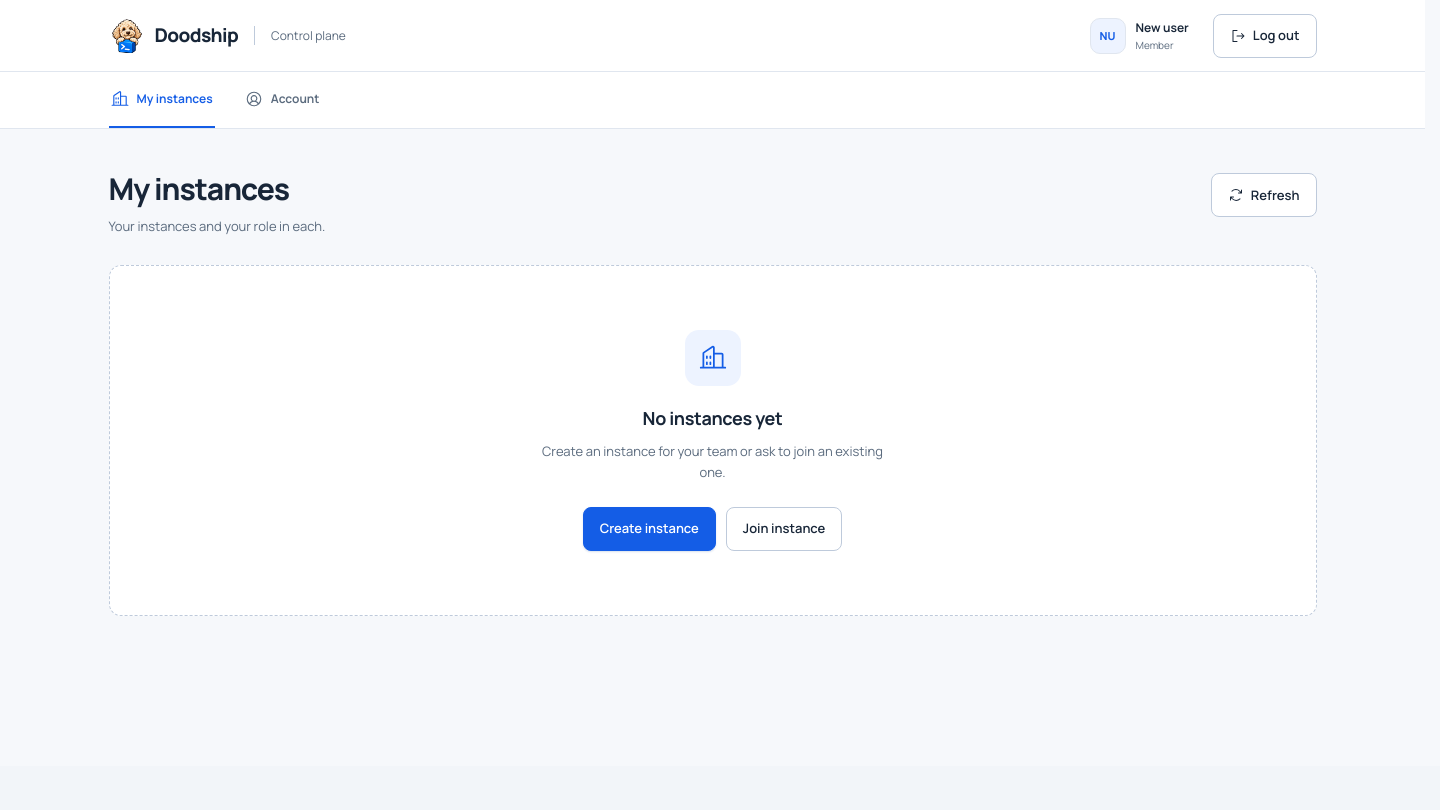
Test: shows a pending request without an instance link or membership
Click the button "Join instance": (784, 529) x1=726 y1=507 x2=842 y2=551
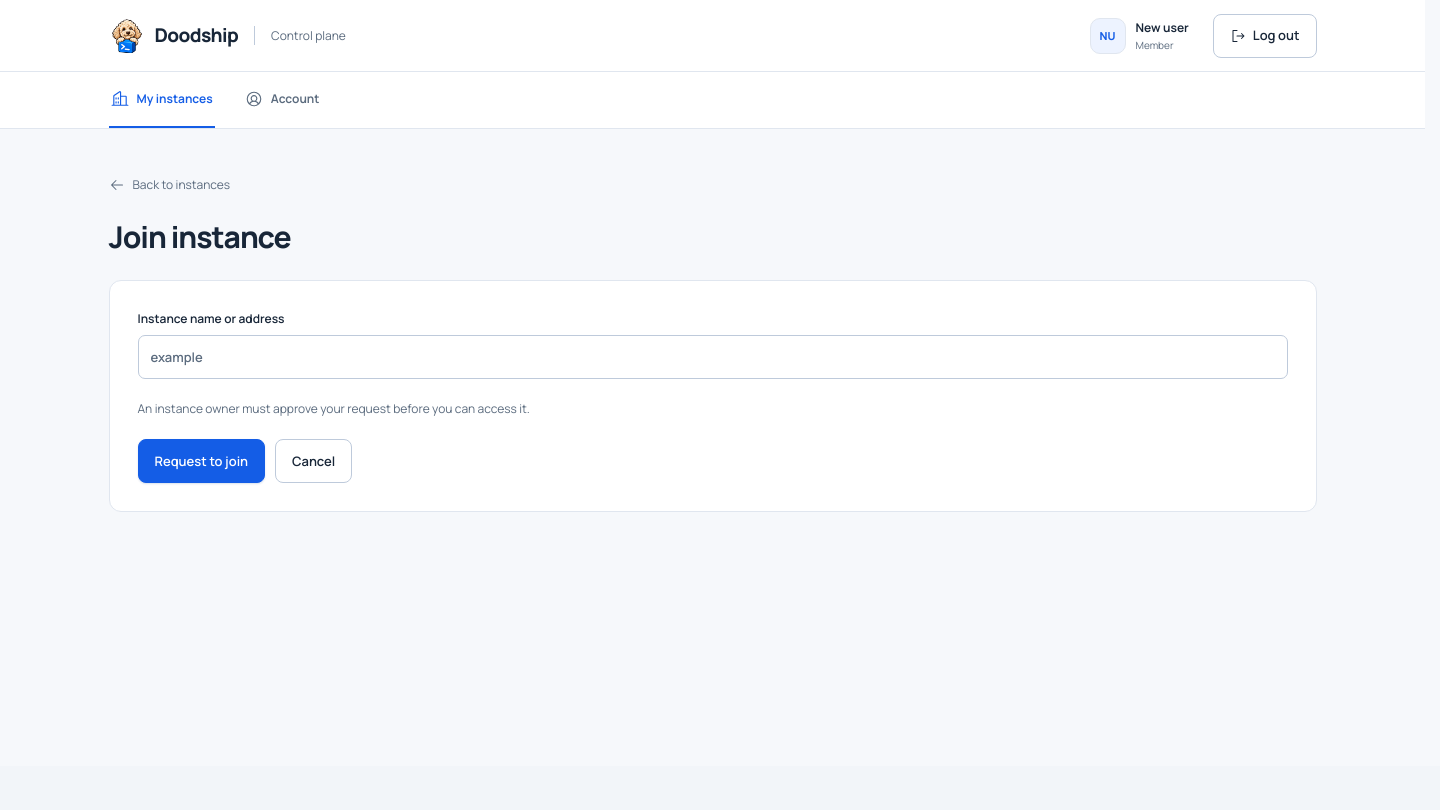
In the field labelled "Instance name or address": (712, 357) x1=138 y1=335 x2=1288 y2=379, type "https://my-team.doodship.example.test"
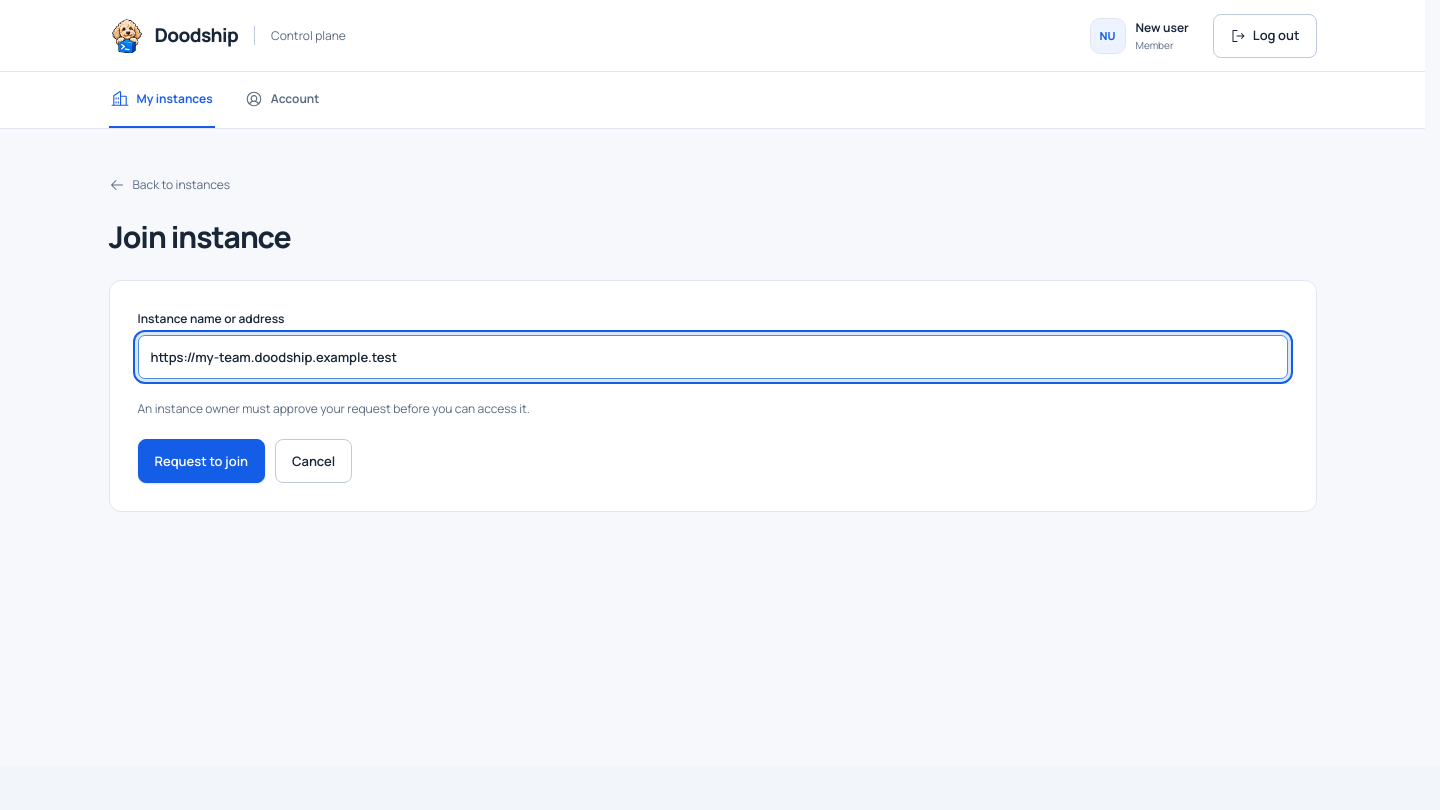
Click the button "Request to join": (201, 461) x1=138 y1=439 x2=265 y2=483
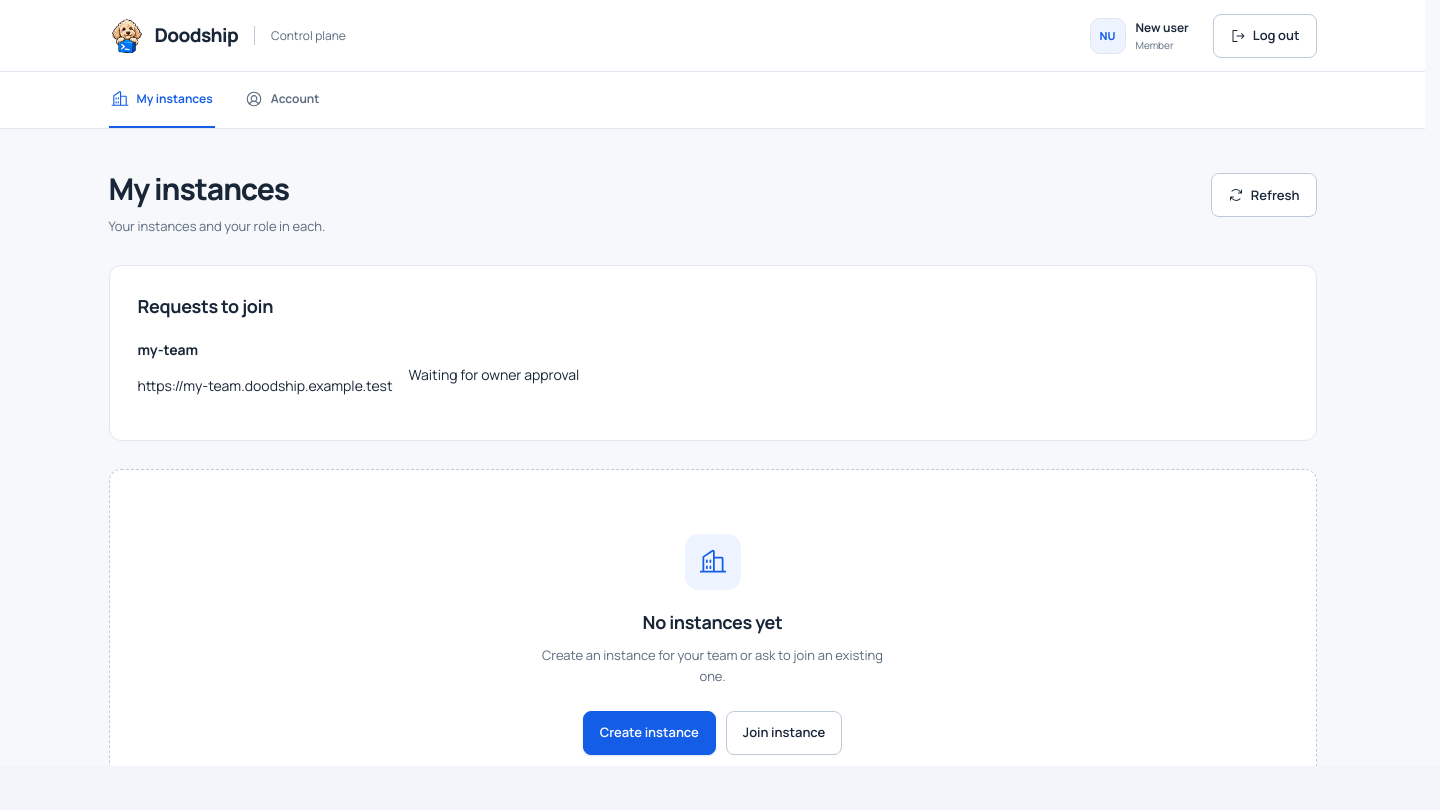
Expected: the text "Waiting for owner approval" is shown, x1=409 y1=365 x2=579 y2=384
